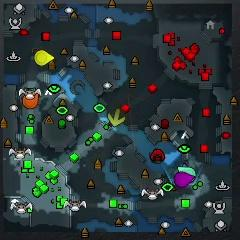p1: (182, 163, 187, 166)
p2: (178, 166, 195, 180)
p3: (175, 171, 193, 187)
p4: (35, 51, 54, 65)
p5: (22, 93, 38, 108)
x2: (108, 108, 125, 127)
